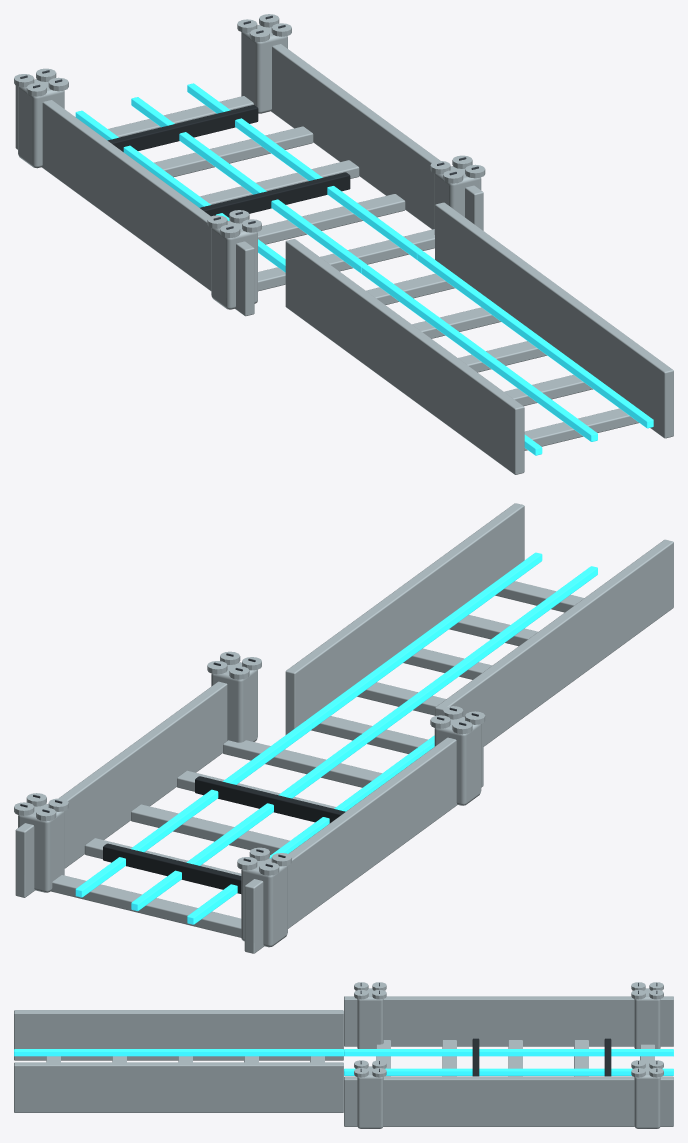
File: data-centre-infiltration-kit-data-centre-infiltration--d658b3ec__29269.glb
The picture shows the model from 3 angles, top to bottom: view 1: azimuth 30°, elevation 25°; view 2: azimuth 150°, elevation 25°; view 3: azimuth 270°, elevation 25°; orthographic projection. The views are drawn at different scales.
Visible parts, largest first — view 1: data-centre-infiltration-kit-cable-reducer; view 2: data-centre-infiltration-kit-cable-reducer; view 3: data-centre-infiltration-kit-cable-reducer.
Boxes of the visible parts, x1=… form: data-centre-infiltration-kit-cable-reducer: x1=14, y1=14, x2=673, y2=474; data-centre-infiltration-kit-cable-reducer: x1=14, y1=503, x2=673, y2=953; data-centre-infiltration-kit-cable-reducer: x1=14, y1=982, x2=673, y2=1128.
Size of the model in its own units: 0.659 by 0.1959 by 2.
